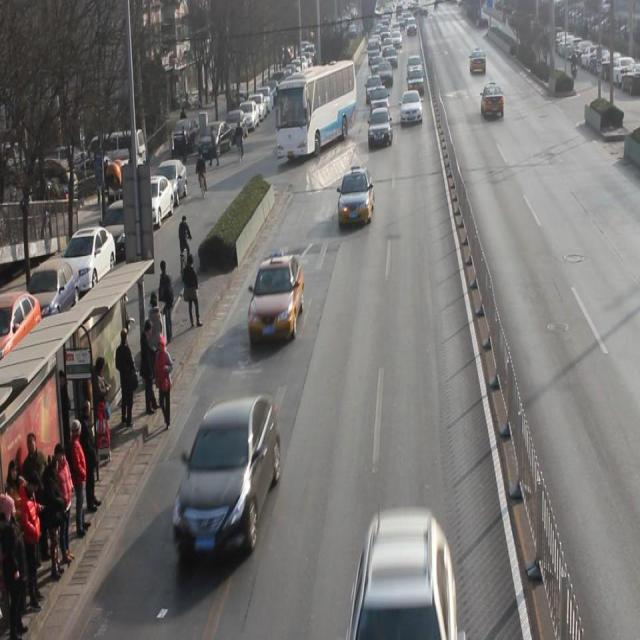car: (172, 394, 282, 558), (352, 508, 459, 640), (249, 256, 305, 343), (338, 169, 375, 229), (368, 108, 394, 148), (480, 84, 505, 119), (400, 91, 423, 126), (369, 87, 391, 119)
van: (275, 63, 357, 159)
